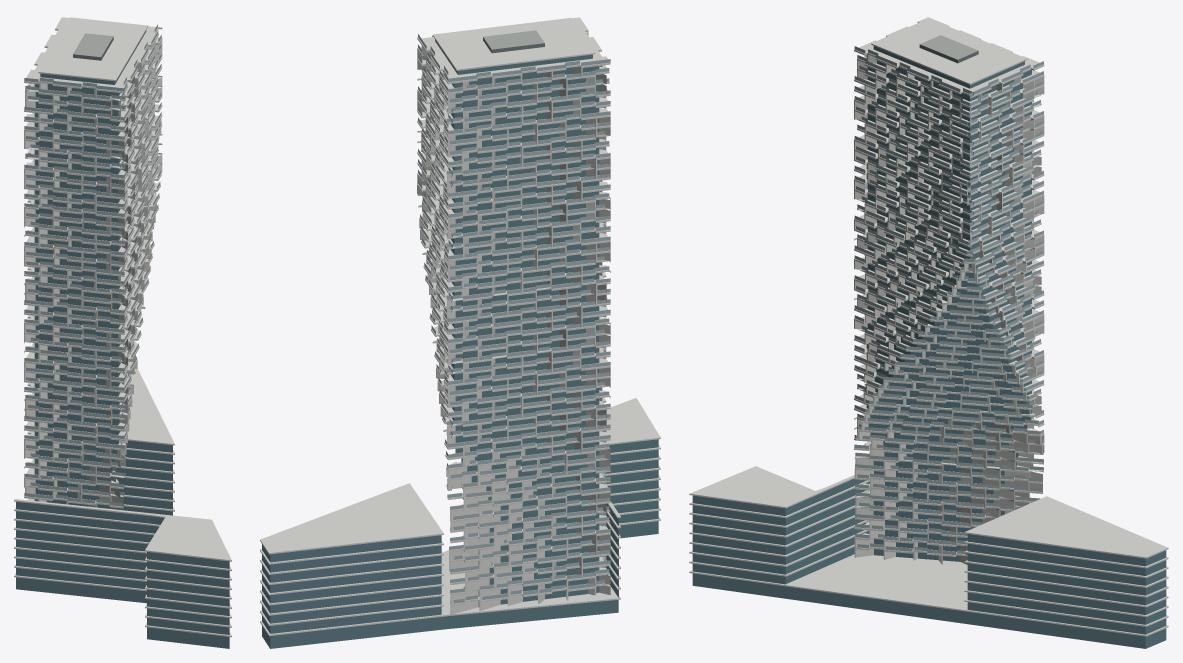
Rendered from vancouver-house-near.glb.
The picture shows the model from 3 angles, left to right: view 1: azimuth 30°, elevation 25°; view 2: azimuth 150°, elevation 25°; view 3: azimuth 270°, elevation 25°; orthographic projection. The views are drawn at different scales.
Visible parts, largest first — view 1: vancouver-house-0-white, vancouver-house-0-glass, vancouver-house-0-rail, vancouver-house-0-metal, vancouver-house-0-light, vancouver-house-0-roof; view 2: vancouver-house-0-white, vancouver-house-0-glass, vancouver-house-0-rail, vancouver-house-0-metal, vancouver-house-0-light, vancouver-house-0-roof; view 3: vancouver-house-0-white, vancouver-house-0-glass, vancouver-house-0-rail, vancouver-house-0-metal, vancouver-house-0-light, vancouver-house-0-roof.
Part boxes in pixels (x1=…): vancouver-house-0-white: x1=14, y1=17, x2=231, y2=637; vancouver-house-0-glass: x1=16, y1=30, x2=229, y2=648; vancouver-house-0-rail: x1=24, y1=24, x2=161, y2=506; vancouver-house-0-metal: x1=22, y1=36, x2=223, y2=647; vancouver-house-0-light: x1=41, y1=87, x2=120, y2=504; vancouver-house-0-roof: x1=73, y1=33, x2=113, y2=57; vancouver-house-0-white: x1=260, y1=17, x2=660, y2=636; vancouver-house-0-glass: x1=262, y1=39, x2=658, y2=648; vancouver-house-0-rail: x1=418, y1=34, x2=610, y2=603; vancouver-house-0-metal: x1=263, y1=37, x2=651, y2=647; vancouver-house-0-light: x1=452, y1=71, x2=597, y2=594; vancouver-house-0-roof: x1=483, y1=30, x2=544, y2=49; vancouver-house-0-white: x1=689, y1=17, x2=1168, y2=636; vancouver-house-0-glass: x1=692, y1=46, x2=1166, y2=648; vancouver-house-0-rail: x1=854, y1=46, x2=1043, y2=554; vancouver-house-0-metal: x1=698, y1=44, x2=1161, y2=647; vancouver-house-0-light: x1=871, y1=74, x2=1031, y2=559; vancouver-house-0-roof: x1=920, y1=35, x2=978, y2=59.
Bounding box in the file's own units: 72.14 × 156 × 127.
